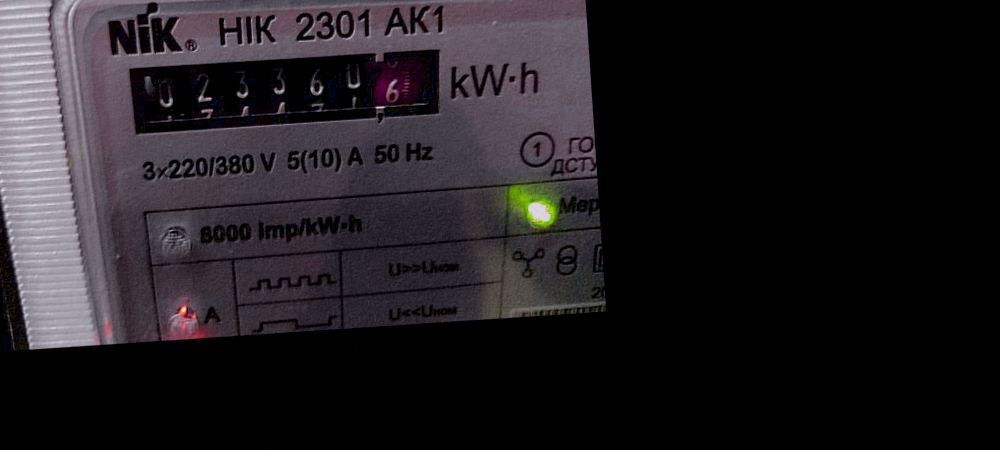0: (154, 76, 177, 110), (344, 59, 363, 91)
2: (192, 70, 217, 106)
3: (230, 68, 253, 101), (269, 64, 290, 96)
6: (305, 65, 327, 98), (380, 75, 403, 105)
screen: (110, 30, 458, 151)
